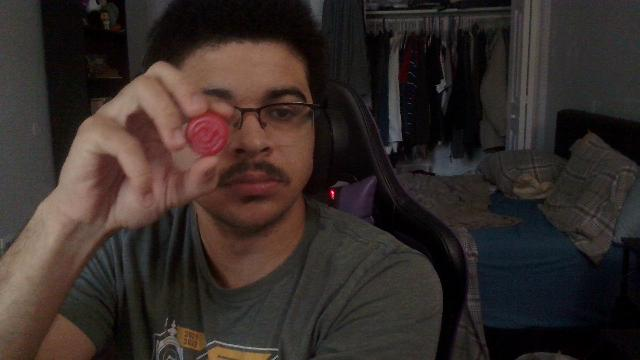cap: (186, 112, 228, 156)
